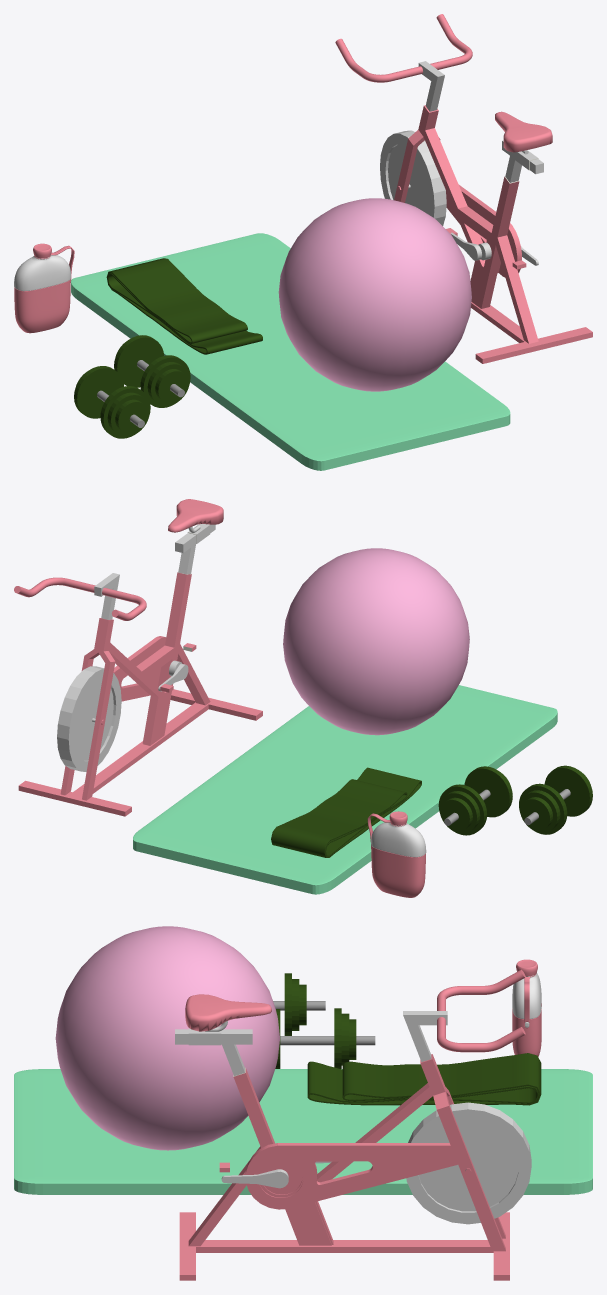
Rendered from no-rabbit-exercising.glb.
3 renders of one model, top to bottom at view 1: azimuth 30°, elevation 25°; view 2: azimuth 150°, elevation 25°; view 3: azimuth 270°, elevation 25°, orthographic. The views are drawn at different scales.
Visible parts, largest first — view 1: Cube, Sphere, Exercise Bike, band-a, Circle.001, Circle.002, water-bottle.003, water-bottle; view 2: Cube, Sphere, Exercise Bike, band-a, Circle.002, Circle.001, water-bottle.003, water-bottle; view 3: Exercise Bike, Sphere, Cube, band-a, Circle.002, Circle.001, water-bottle, water-bottle.003.
Boxes of the visible parts, <box> form: Cube: <box>71,233,510,470</box>; Sphere: <box>278,198,471,391</box>; Exercise Bike: <box>335,14,592,363</box>; band-a: <box>106,258,262,354</box>; Circle.001: <box>74,366,150,438</box>; Circle.002: <box>114,335,190,407</box>; water-bottle.003: <box>14,280,70,333</box>; water-bottle: <box>14,255,70,291</box>; Cube: <box>133,685,557,894</box>; Sphere: <box>283,548,469,735</box>; Exercise Bike: <box>14,499,262,816</box>; band-a: <box>271,767,421,857</box>; Circle.002: <box>438,766,512,835</box>; Circle.001: <box>519,765,592,834</box>; water-bottle.003: <box>371,846,425,897</box>; water-bottle: <box>371,822,426,857</box>; Exercise Bike: <box>175,969,531,1280</box>; Sphere: <box>55,926,279,1150</box>; Cube: <box>14,1069,592,1194</box>; band-a: <box>307,1053,541,1105</box>; Circle.002: <box>275,1008,375,1068</box>; Circle.001: <box>273,973,325,1035</box>; water-bottle: <box>512,973,541,1018</box>; water-bottle.003: <box>512,1003,541,1056</box>.
Size of the model in its own units: 7.15 by 3.22 by 6.57.
